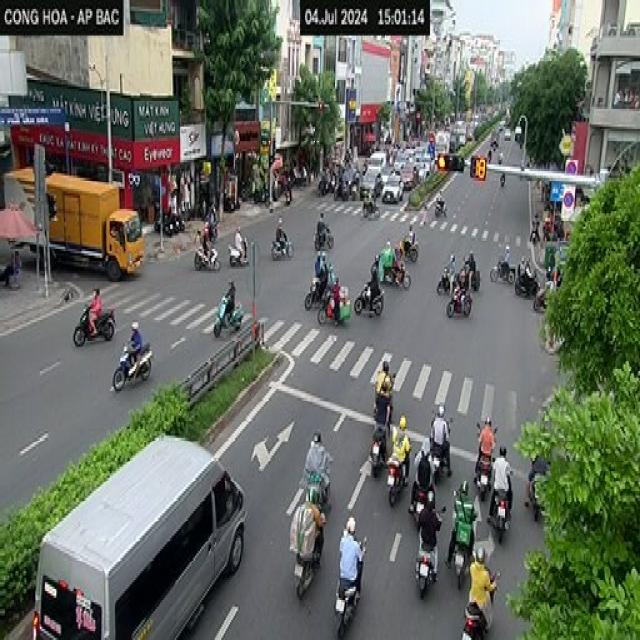Red: (434, 152, 466, 175)
